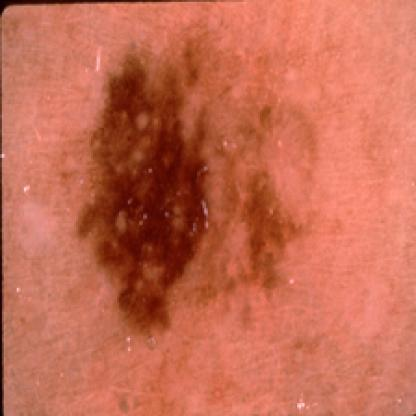malignant: (87, 50, 270, 314)
